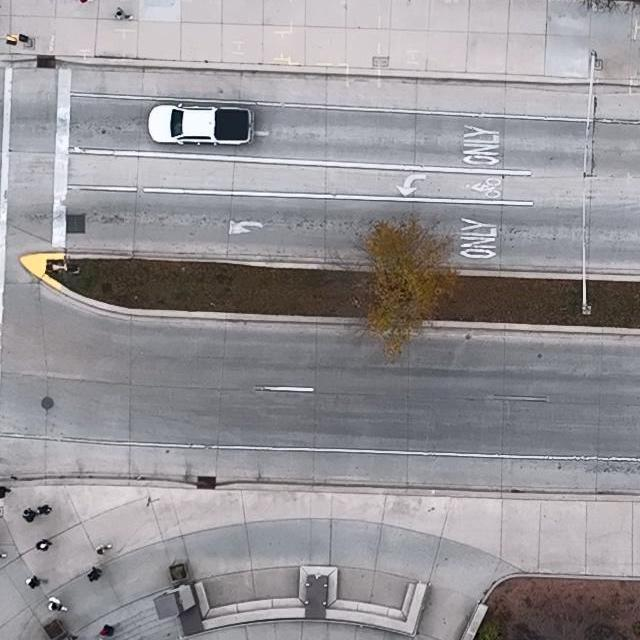car: (148, 102, 255, 147)
